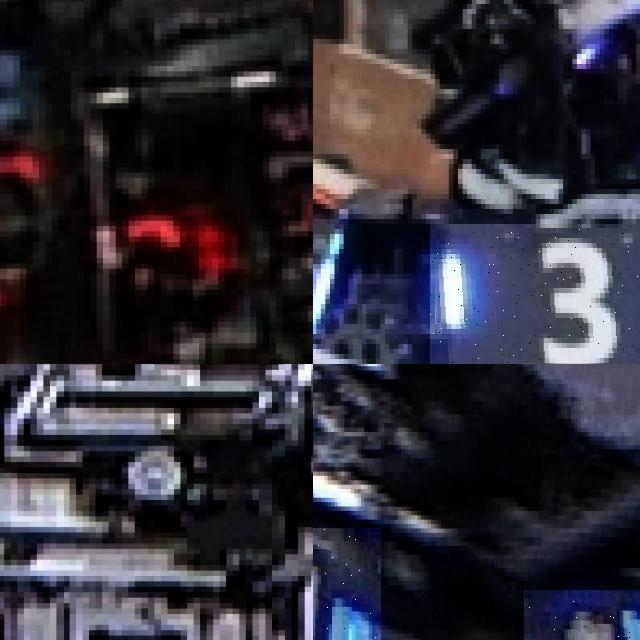B1: (313, 528, 381, 640), (524, 589, 640, 640)
B3: (430, 224, 640, 364)
